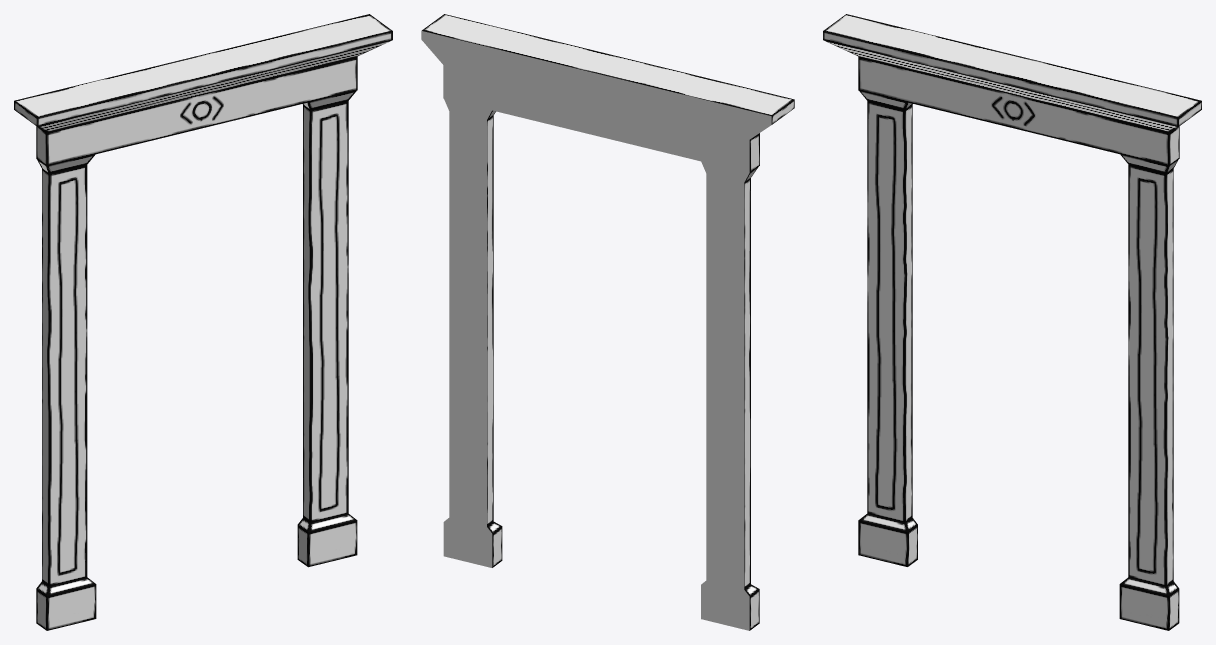
Rendered from Trim2_door.glb.
3 views of the same model, side by side, from view 1: azimuth 30°, elevation 25°; view 2: azimuth 150°, elevation 25°; view 3: azimuth 330°, elevation 25° (orthographic).
Parts seen in each view (by area): view 1: Trim02_door; view 2: Trim02_door; view 3: Trim02_door.
Part boxes in pixels (bbox=[...]): Trim02_door: bbox=[14, 14, 392, 630]; Trim02_door: bbox=[421, 14, 794, 630]; Trim02_door: bbox=[823, 14, 1201, 630].
Bounding box in the file's own units: 1.6 × 2.27 × 0.1817.
Materials: 1 (1 with a texture image).
